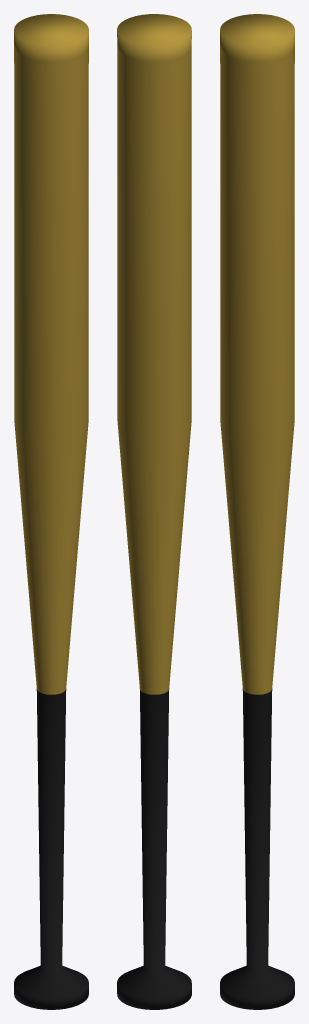
File: goldbat_size1.fbx
3 views of the same model, side by side, from view 1: azimuth 90°, elevation 25°; view 2: azimuth 210°, elevation 25°; view 3: azimuth 270°, elevation 25° (orthographic).
Parts seen in each view (by area): view 1: Cylinder; view 2: Cylinder; view 3: Cylinder.
Boxes of the visible parts, box(x1,y1,x2,y2) form: Cylinder: box(14, 14, 88, 1009); Cylinder: box(117, 14, 191, 1009); Cylinder: box(220, 14, 294, 1009).
Bounding box in the file's own units: 0.6602 × 9.37 × 0.6602.
